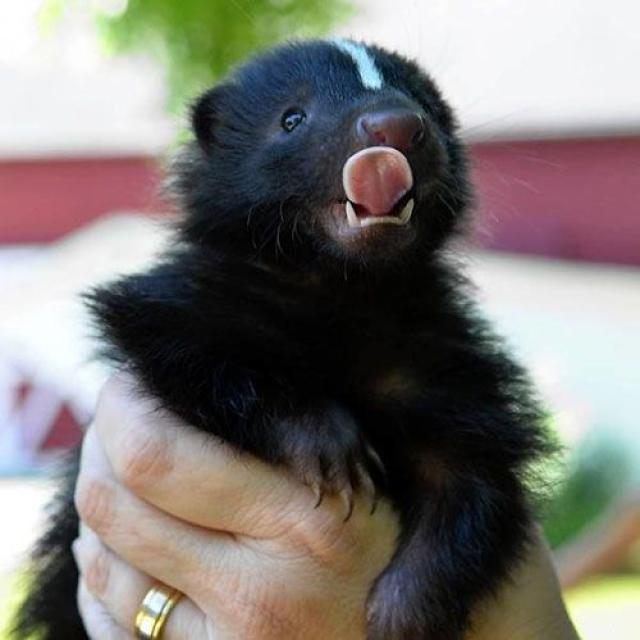Skunk: (32, 37, 532, 640)
